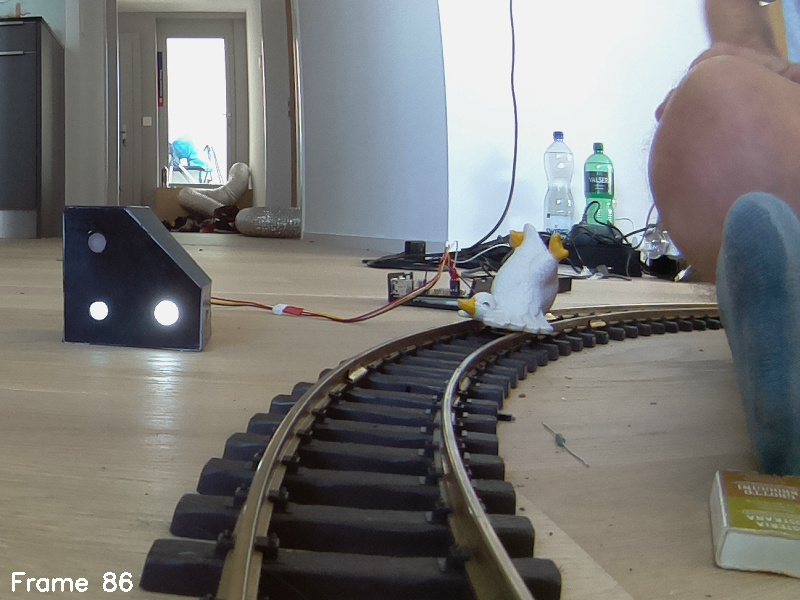Ente: (455, 222, 570, 338)
Halt: (64, 206, 203, 354)
